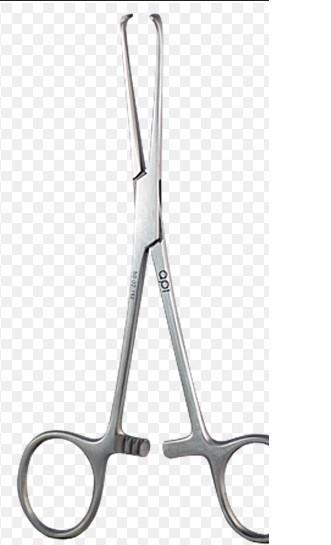Allis Forceps: (19, 3, 287, 545)
